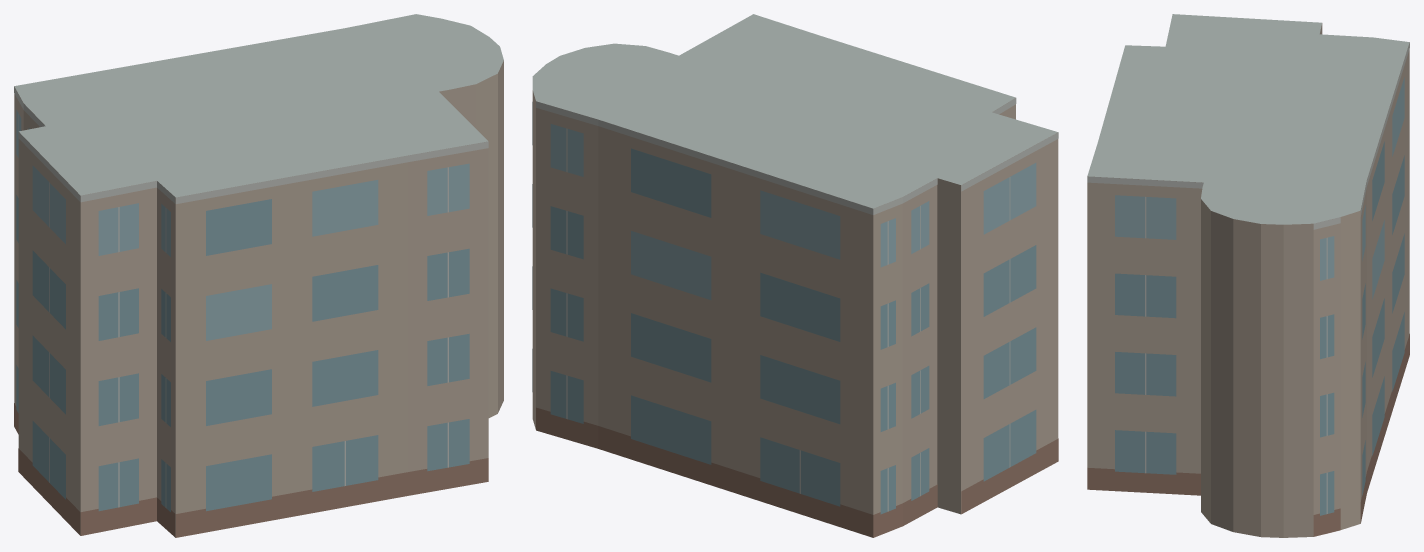
Rendered from survey-upis-32777613.glb.
The picture shows the model from 3 angles, left to right: view 1: azimuth 30°, elevation 25°; view 2: azimuth 150°, elevation 25°; view 3: azimuth 270°, elevation 25°; orthographic projection. The views are drawn at different scales.
Parts seen in each view (by area): view 1: survey-upis-32777613.tmp; view 2: survey-upis-32777613.tmp; view 3: survey-upis-32777613.tmp.
Boxes of the visible parts, <box> form: survey-upis-32777613.tmp: <box>14,14,503,537</box>; survey-upis-32777613.tmp: <box>532,14,1058,537</box>; survey-upis-32777613.tmp: <box>1087,14,1409,537</box>.
Bounding box in the file's own units: 17.75 × 12.3 × 11.49.
